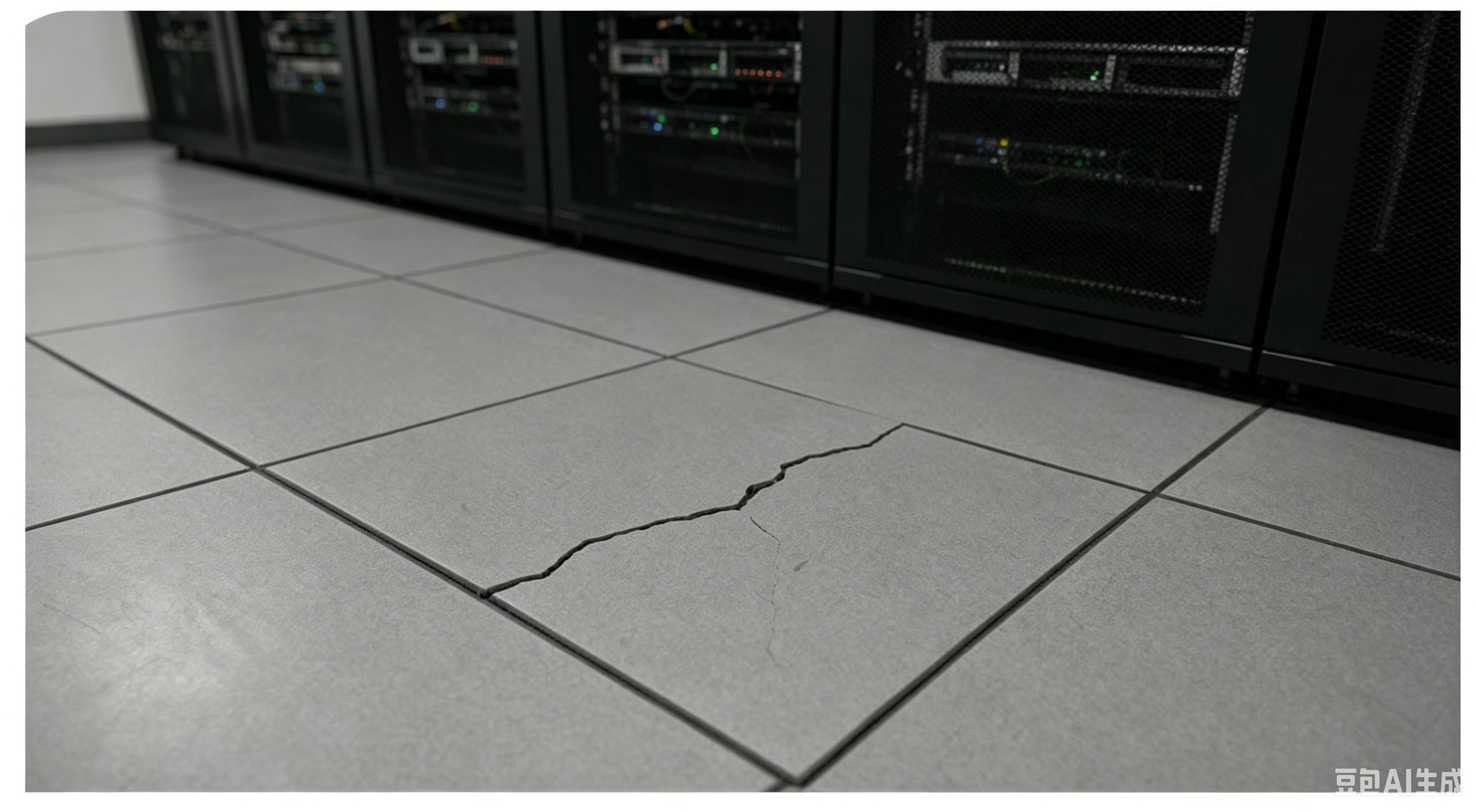floor_defect: (468, 491, 758, 605), (727, 427, 914, 484), (761, 531, 786, 666)
